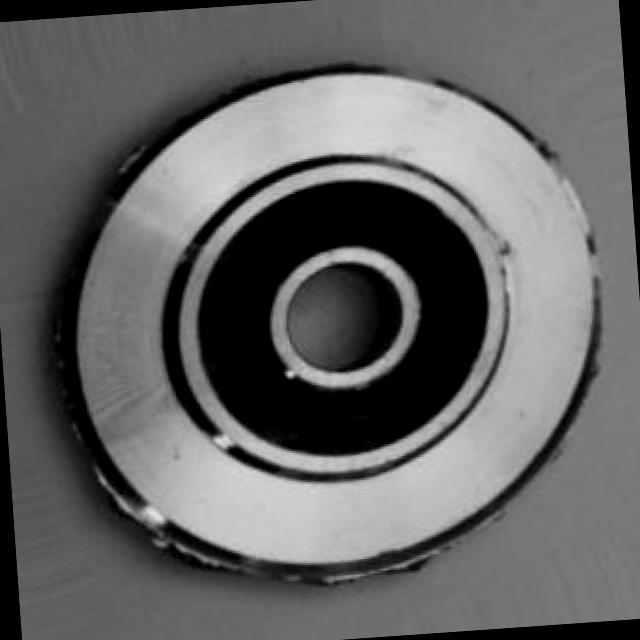Defect: (103, 462, 158, 551)
